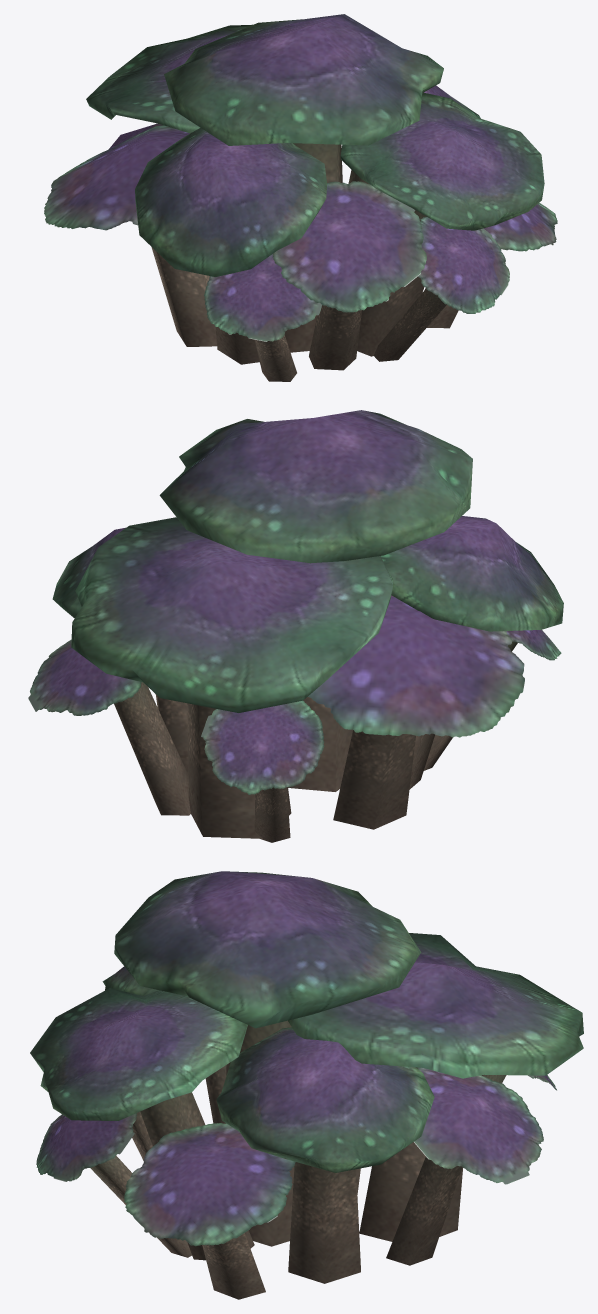
File: SJHD_plant_01.FBX
3 views of the same model, one above another, from view 1: azimuth 30°, elevation 25°; view 2: azimuth 150°, elevation 25°; view 3: azimuth 270°, elevation 25° (orthographic). The views are drawn at different scales.
Visible parts, largest first — view 1: SJHD_plant_01; view 2: SJHD_plant_01; view 3: SJHD_plant_01.
Part boxes in pixels (x1,y1,x2,y2): SJHD_plant_01: [44, 14, 557, 381]; SJHD_plant_01: [28, 410, 563, 842]; SJHD_plant_01: [30, 871, 583, 1299].
Bounding box in the file's own units: 185 × 115 × 174.
